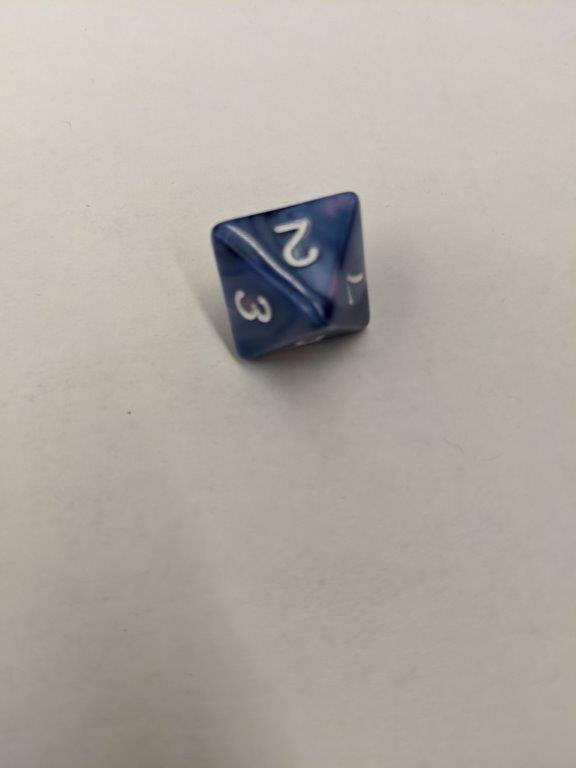d8-2: (211, 189, 373, 363)
